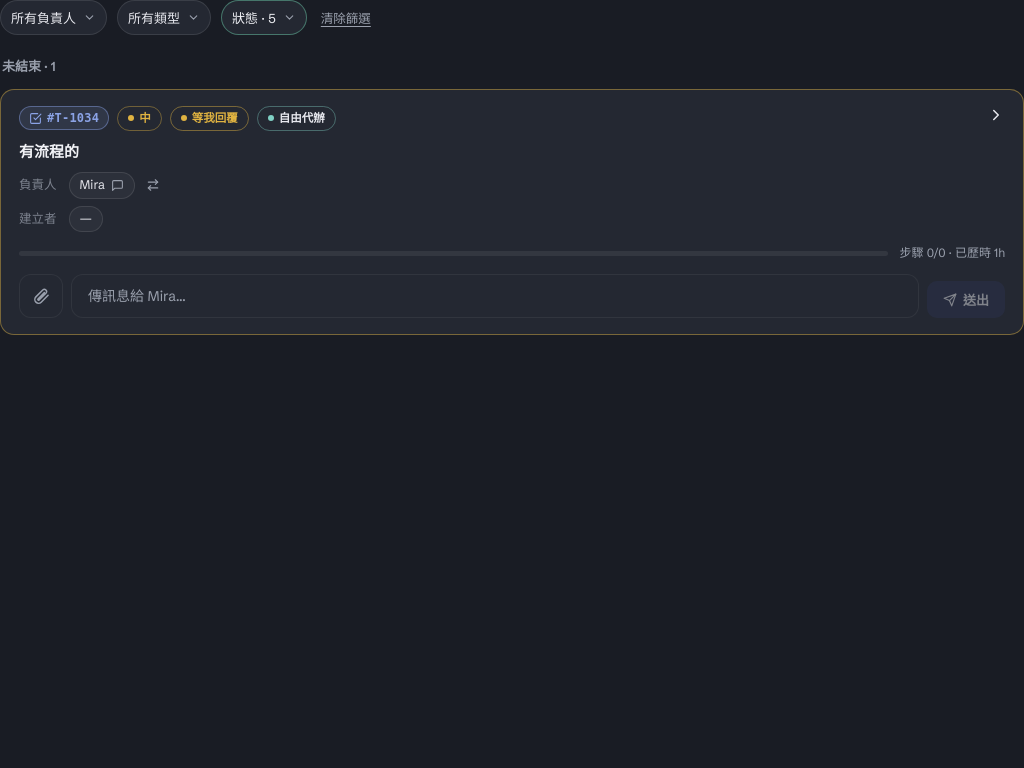
TasksPage › renders the timeline: step DoD + 耗時, parallel stage label, gate announced (dashed) vs armed (solid)
# Expand the (collapsed-by-default) card to reveal the workflow timeline.
Click the button with test id "task-card" at (512, 320), box [0,88,1023,335]
(page scrolled)
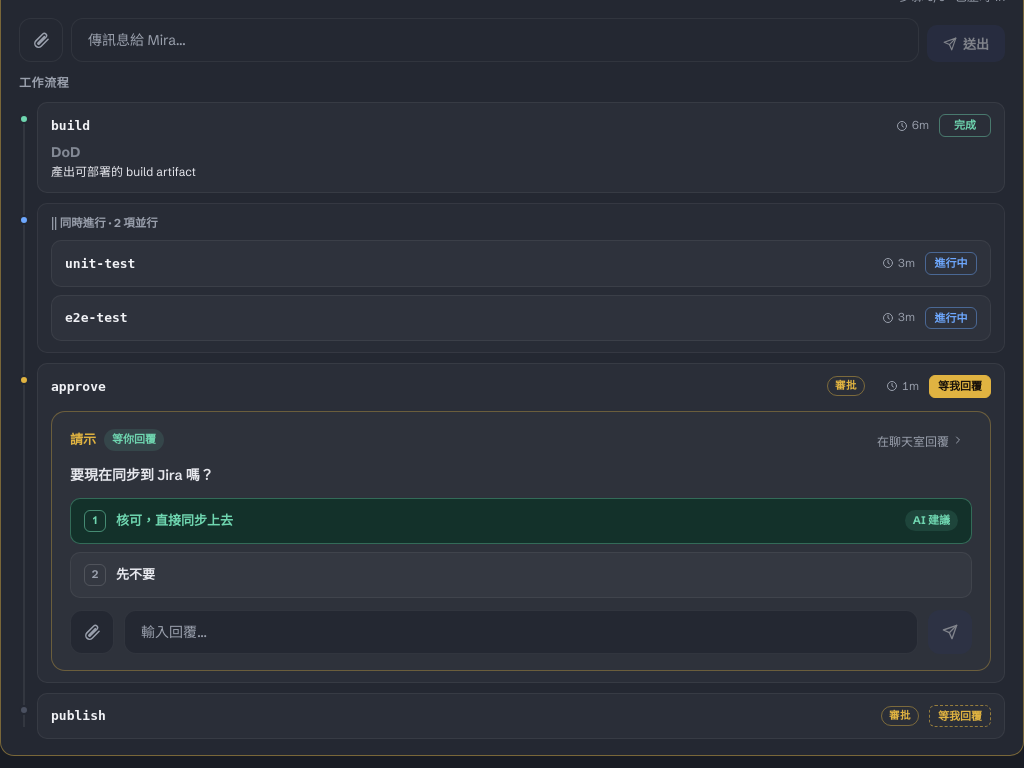
Check: the element with test id "task-step" shows "產出可部署的 build artifact", box [51,164,196,179]
Check: the element with test id "task-step" shows "6m", box [912,118,929,132]
Check: the element with test id "task-step" shows "完成", box [954,118,976,132]
